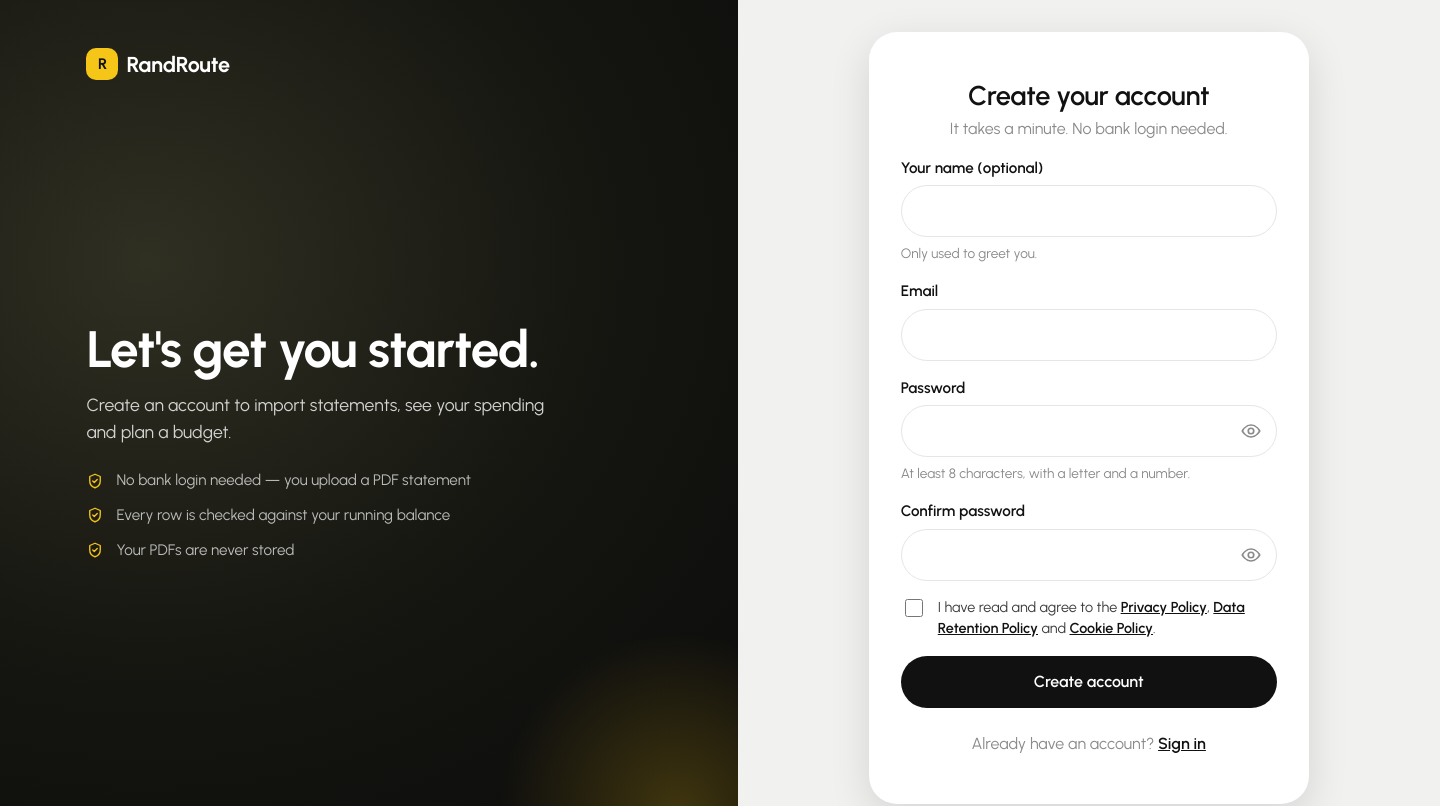
Test case: signed out › tells new users to check their email after registering
Step 1. Type "new@example.com" into the field labelled "Email" → (1089, 335), box left=901, top=309, right=1277, bottom=361
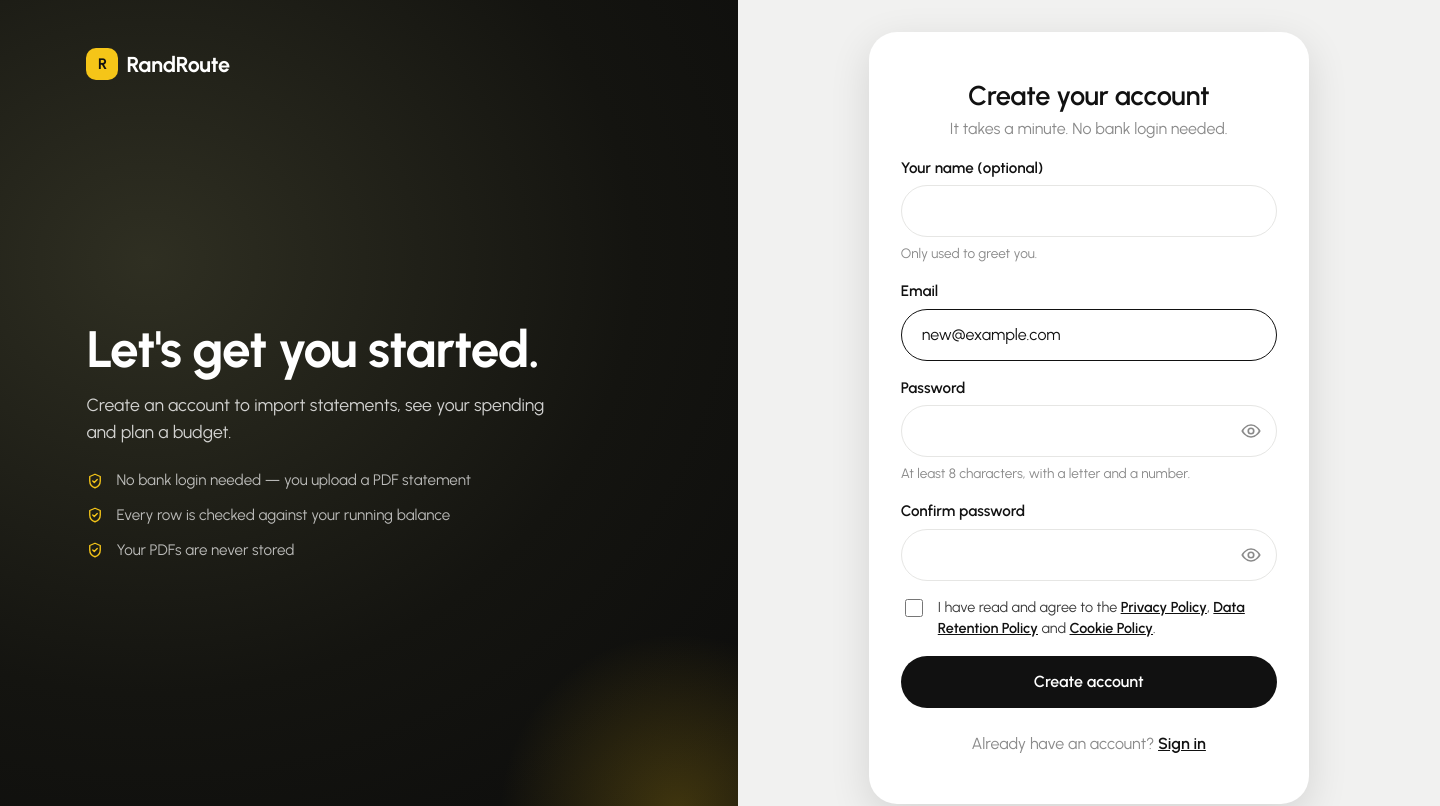
Step 2. Type "Passw0rd1" into the password field labelled "Password" → (1089, 431), box left=901, top=405, right=1277, bottom=457
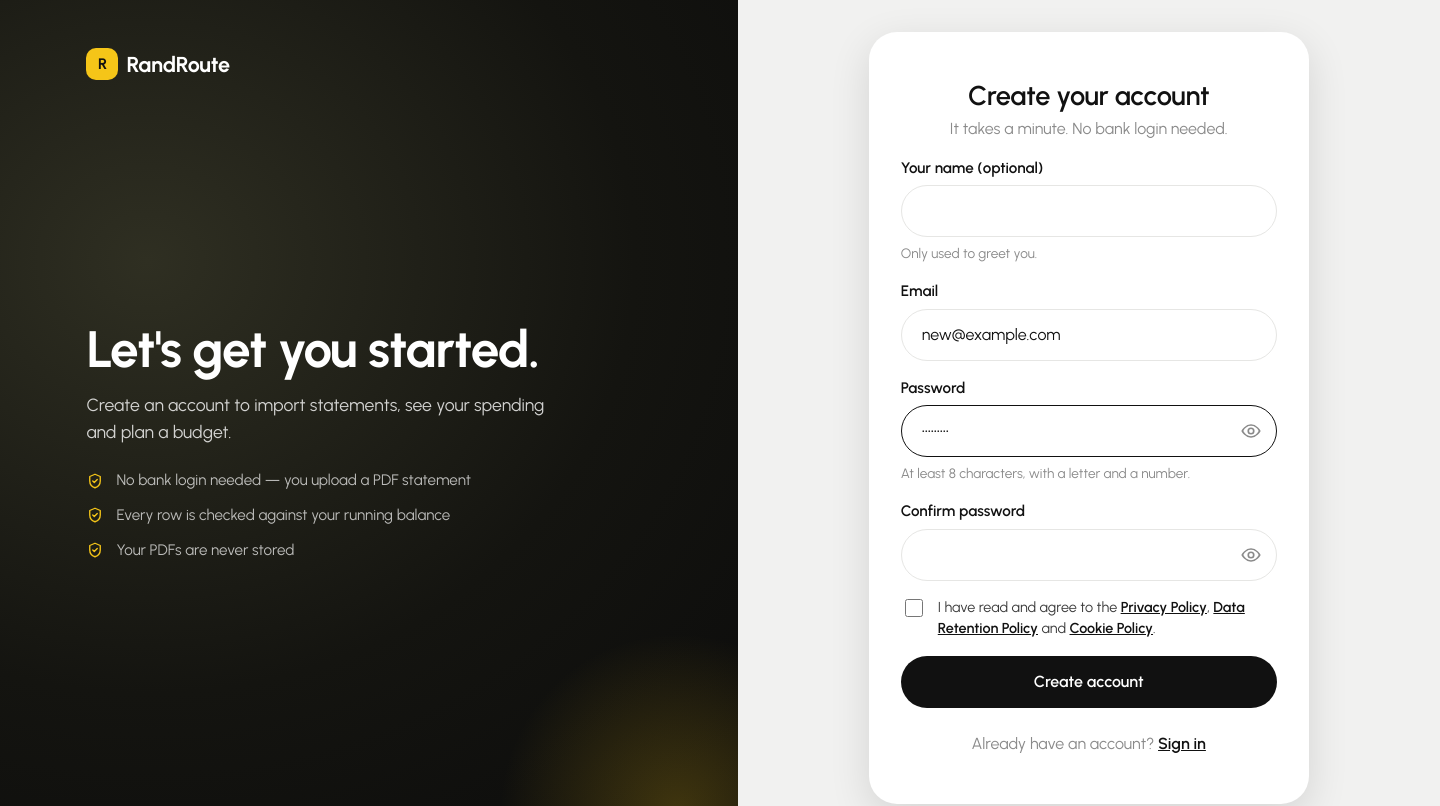
Step 3. Type "Passw0rd1" into the password field labelled "Confirm password" → (1089, 555), box left=901, top=529, right=1277, bottom=581
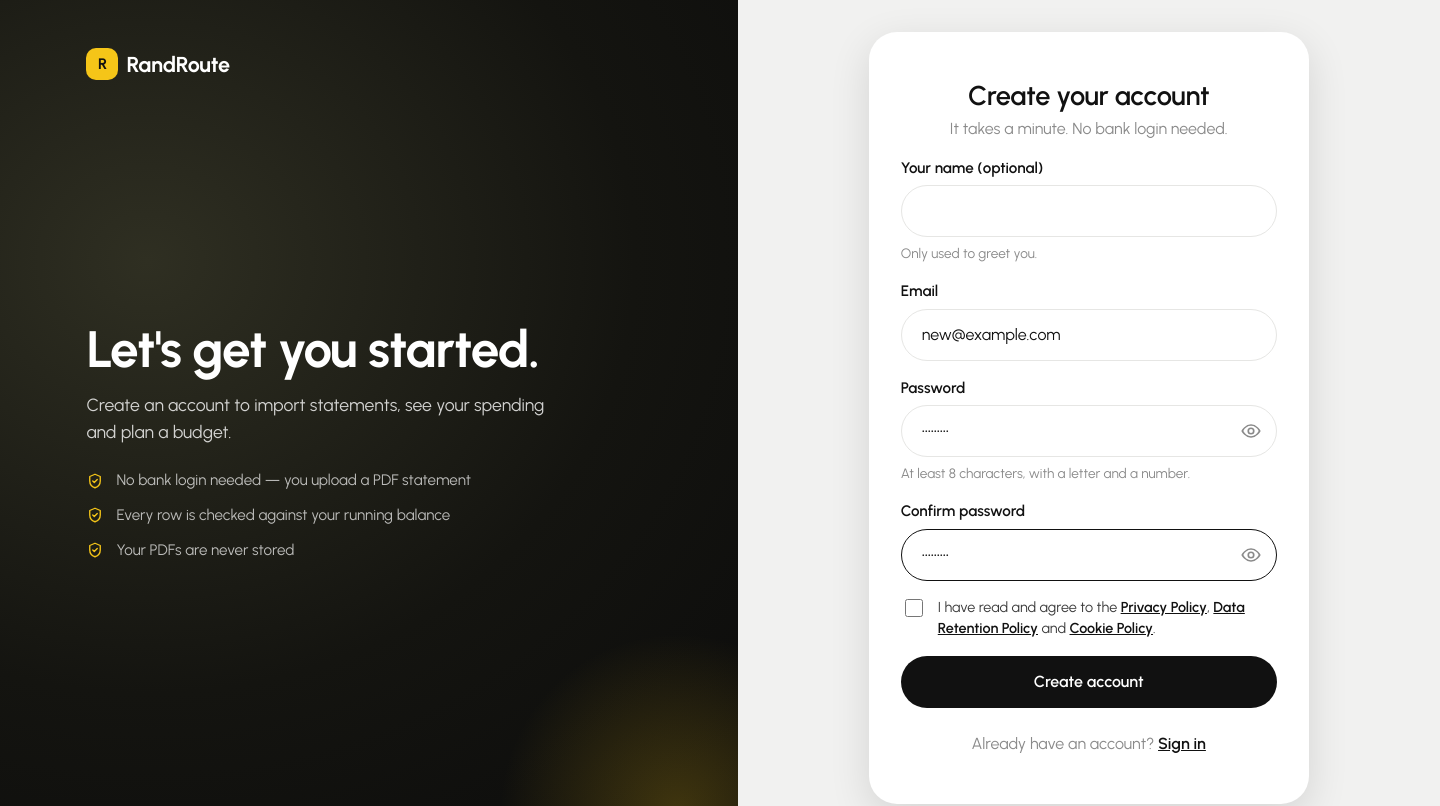
Step 4. Click the button "Create account" → click(1089, 682), box left=901, top=656, right=1277, bottom=708
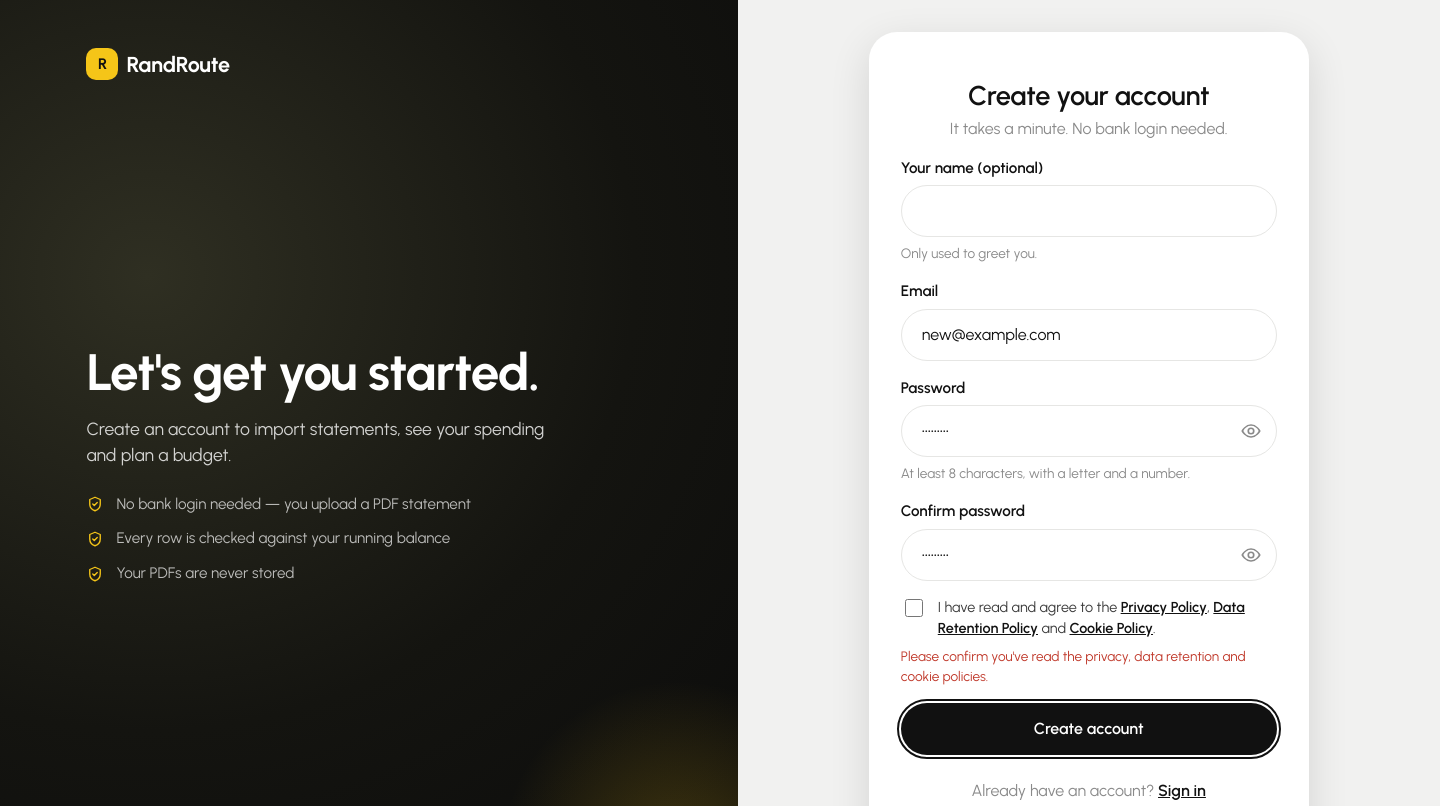
Expected: the text "confirm you.ve read the privacy, data retention and cookie policies" is shown, left=901, top=648, right=1246, bottom=684
Step 5. Click the checkbox → click(914, 608), box left=905, top=599, right=923, bottom=617
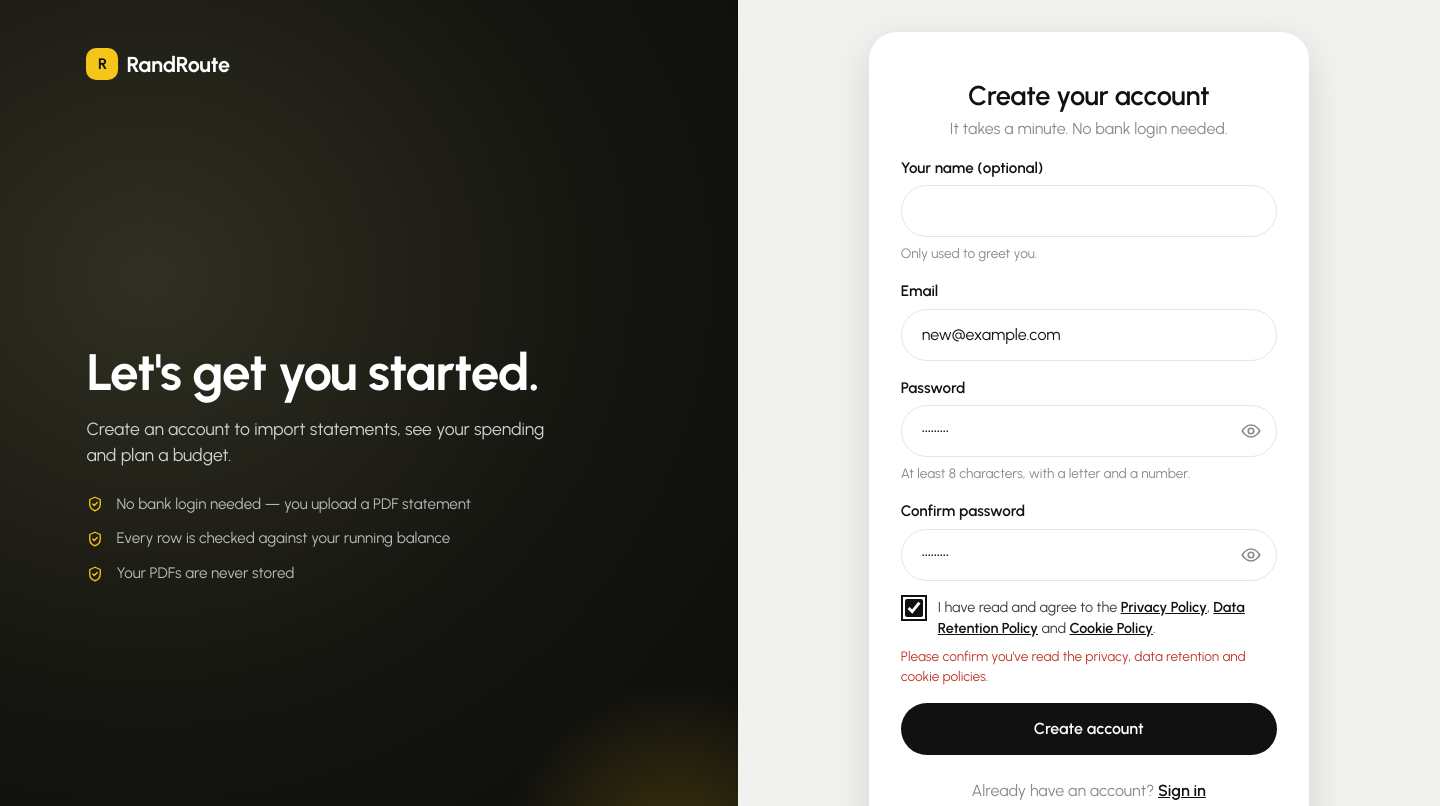
Step 6. Click the button "Create account" → click(1089, 729), box left=901, top=703, right=1277, bottom=755
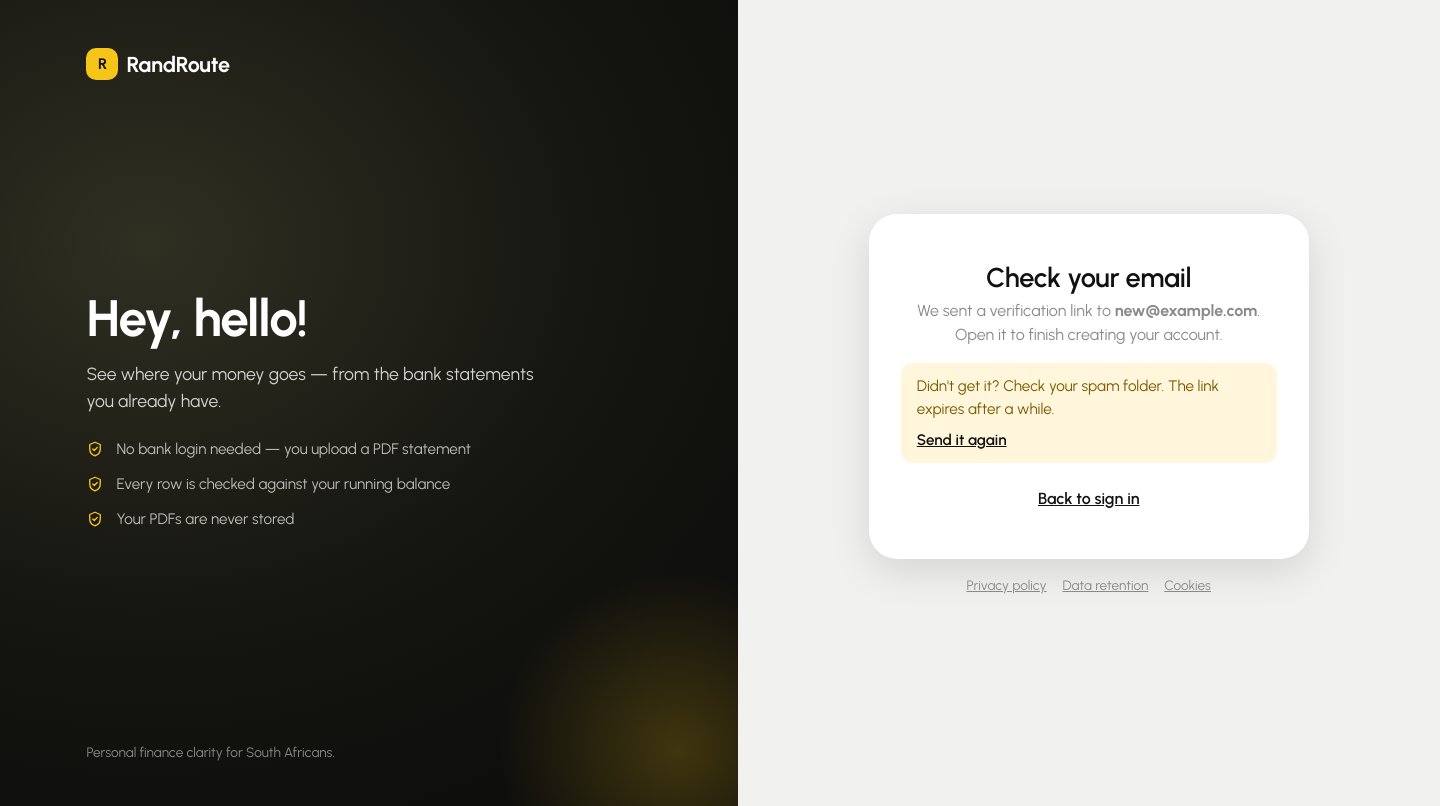
Expected: the heading "Check your email" is shown, left=986, top=261, right=1191, bottom=294
Expected: the text "new@example.com" is shown, left=1115, top=301, right=1257, bottom=320
